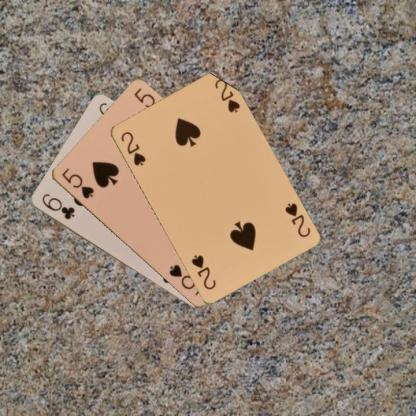2s: (282, 200, 311, 239), (118, 129, 147, 167)
5s: (59, 166, 95, 200)
6c: (38, 191, 76, 221)
